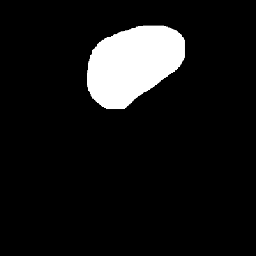mass: (94, 28, 188, 79)
